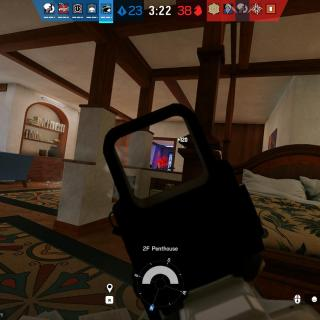Character: (157, 160, 170, 169)
